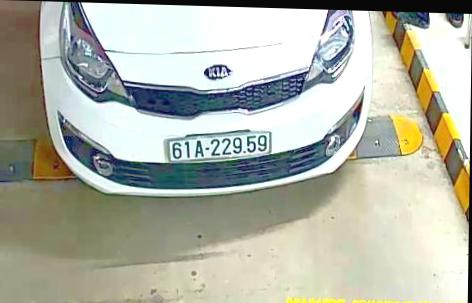License_Plate: (164, 131, 273, 165)
